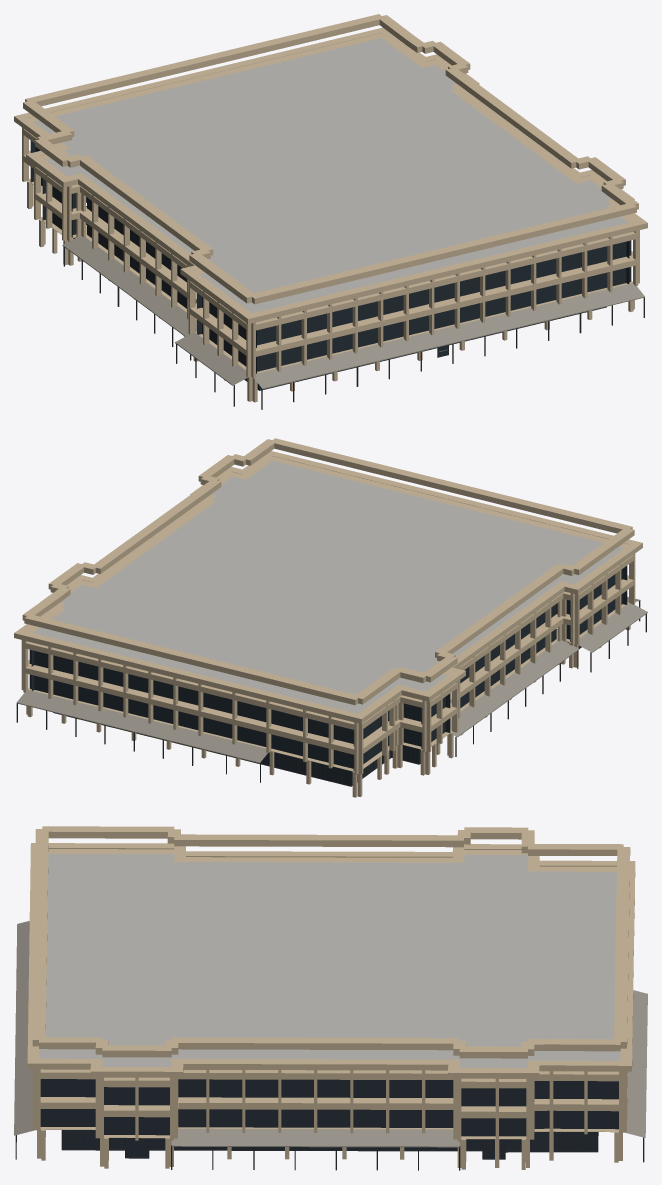
The model's file is eugene_mcdermott_library.glb.
3 renders of one model, top to bottom at view 1: azimuth 30°, elevation 25°; view 2: azimuth 150°, elevation 25°; view 3: azimuth 270°, elevation 25°, orthographic. The views are drawn at different scales.
Visible parts, largest first — view 1: eugene_mcdermott_library_Roof_Membrane, eugene_mcdermott_library_Wall_tan, eugene_mcdermott_library_Glass_dark, eugene_mcdermott_library_Roof_Metal_Canopy, eugene_mcdermott_library_Frame_Dark; view 2: eugene_mcdermott_library_Roof_Membrane, eugene_mcdermott_library_Wall_tan, eugene_mcdermott_library_Glass_dark, eugene_mcdermott_library_Roof_Metal_Canopy, eugene_mcdermott_library_Frame_Dark; view 3: eugene_mcdermott_library_Roof_Membrane, eugene_mcdermott_library_Wall_tan, eugene_mcdermott_library_Glass_dark, eugene_mcdermott_library_Roof_Metal_Canopy, eugene_mcdermott_library_Frame_Dark.
Boxes of the visible parts, <box> form: eugene_mcdermott_library_Roof_Membrane: <box>33,38,628,312</box>; eugene_mcdermott_library_Wall_tan: <box>14,14,647,402</box>; eugene_mcdermott_library_Glass_dark: <box>30,140,631,389</box>; eugene_mcdermott_library_Roof_Metal_Canopy: <box>62,236,644,389</box>; eugene_mcdermott_library_Frame_Dark: <box>63,202,644,409</box>; eugene_mcdermott_library_Roof_Membrane: <box>32,460,624,713</box>; eugene_mcdermott_library_Wall_tan: <box>14,438,642,797</box>; eugene_mcdermott_library_Glass_dark: <box>29,566,627,785</box>; eugene_mcdermott_library_Roof_Metal_Canopy: <box>16,597,647,763</box>; eugene_mcdermott_library_Frame_Dark: <box>16,601,646,786</box>; eugene_mcdermott_library_Roof_Membrane: <box>39,853,620,1068</box>; eugene_mcdermott_library_Wall_tan: <box>27,826,635,1169</box>; eugene_mcdermott_library_Glass_dark: <box>40,1079,618,1158</box>; eugene_mcdermott_library_Roof_Metal_Canopy: <box>14,921,647,1147</box>; eugene_mcdermott_library_Frame_Dark: <box>15,1130,644,1170</box>.
Size of the model in its own units: 77.71 by 18.44 by 88.32.
